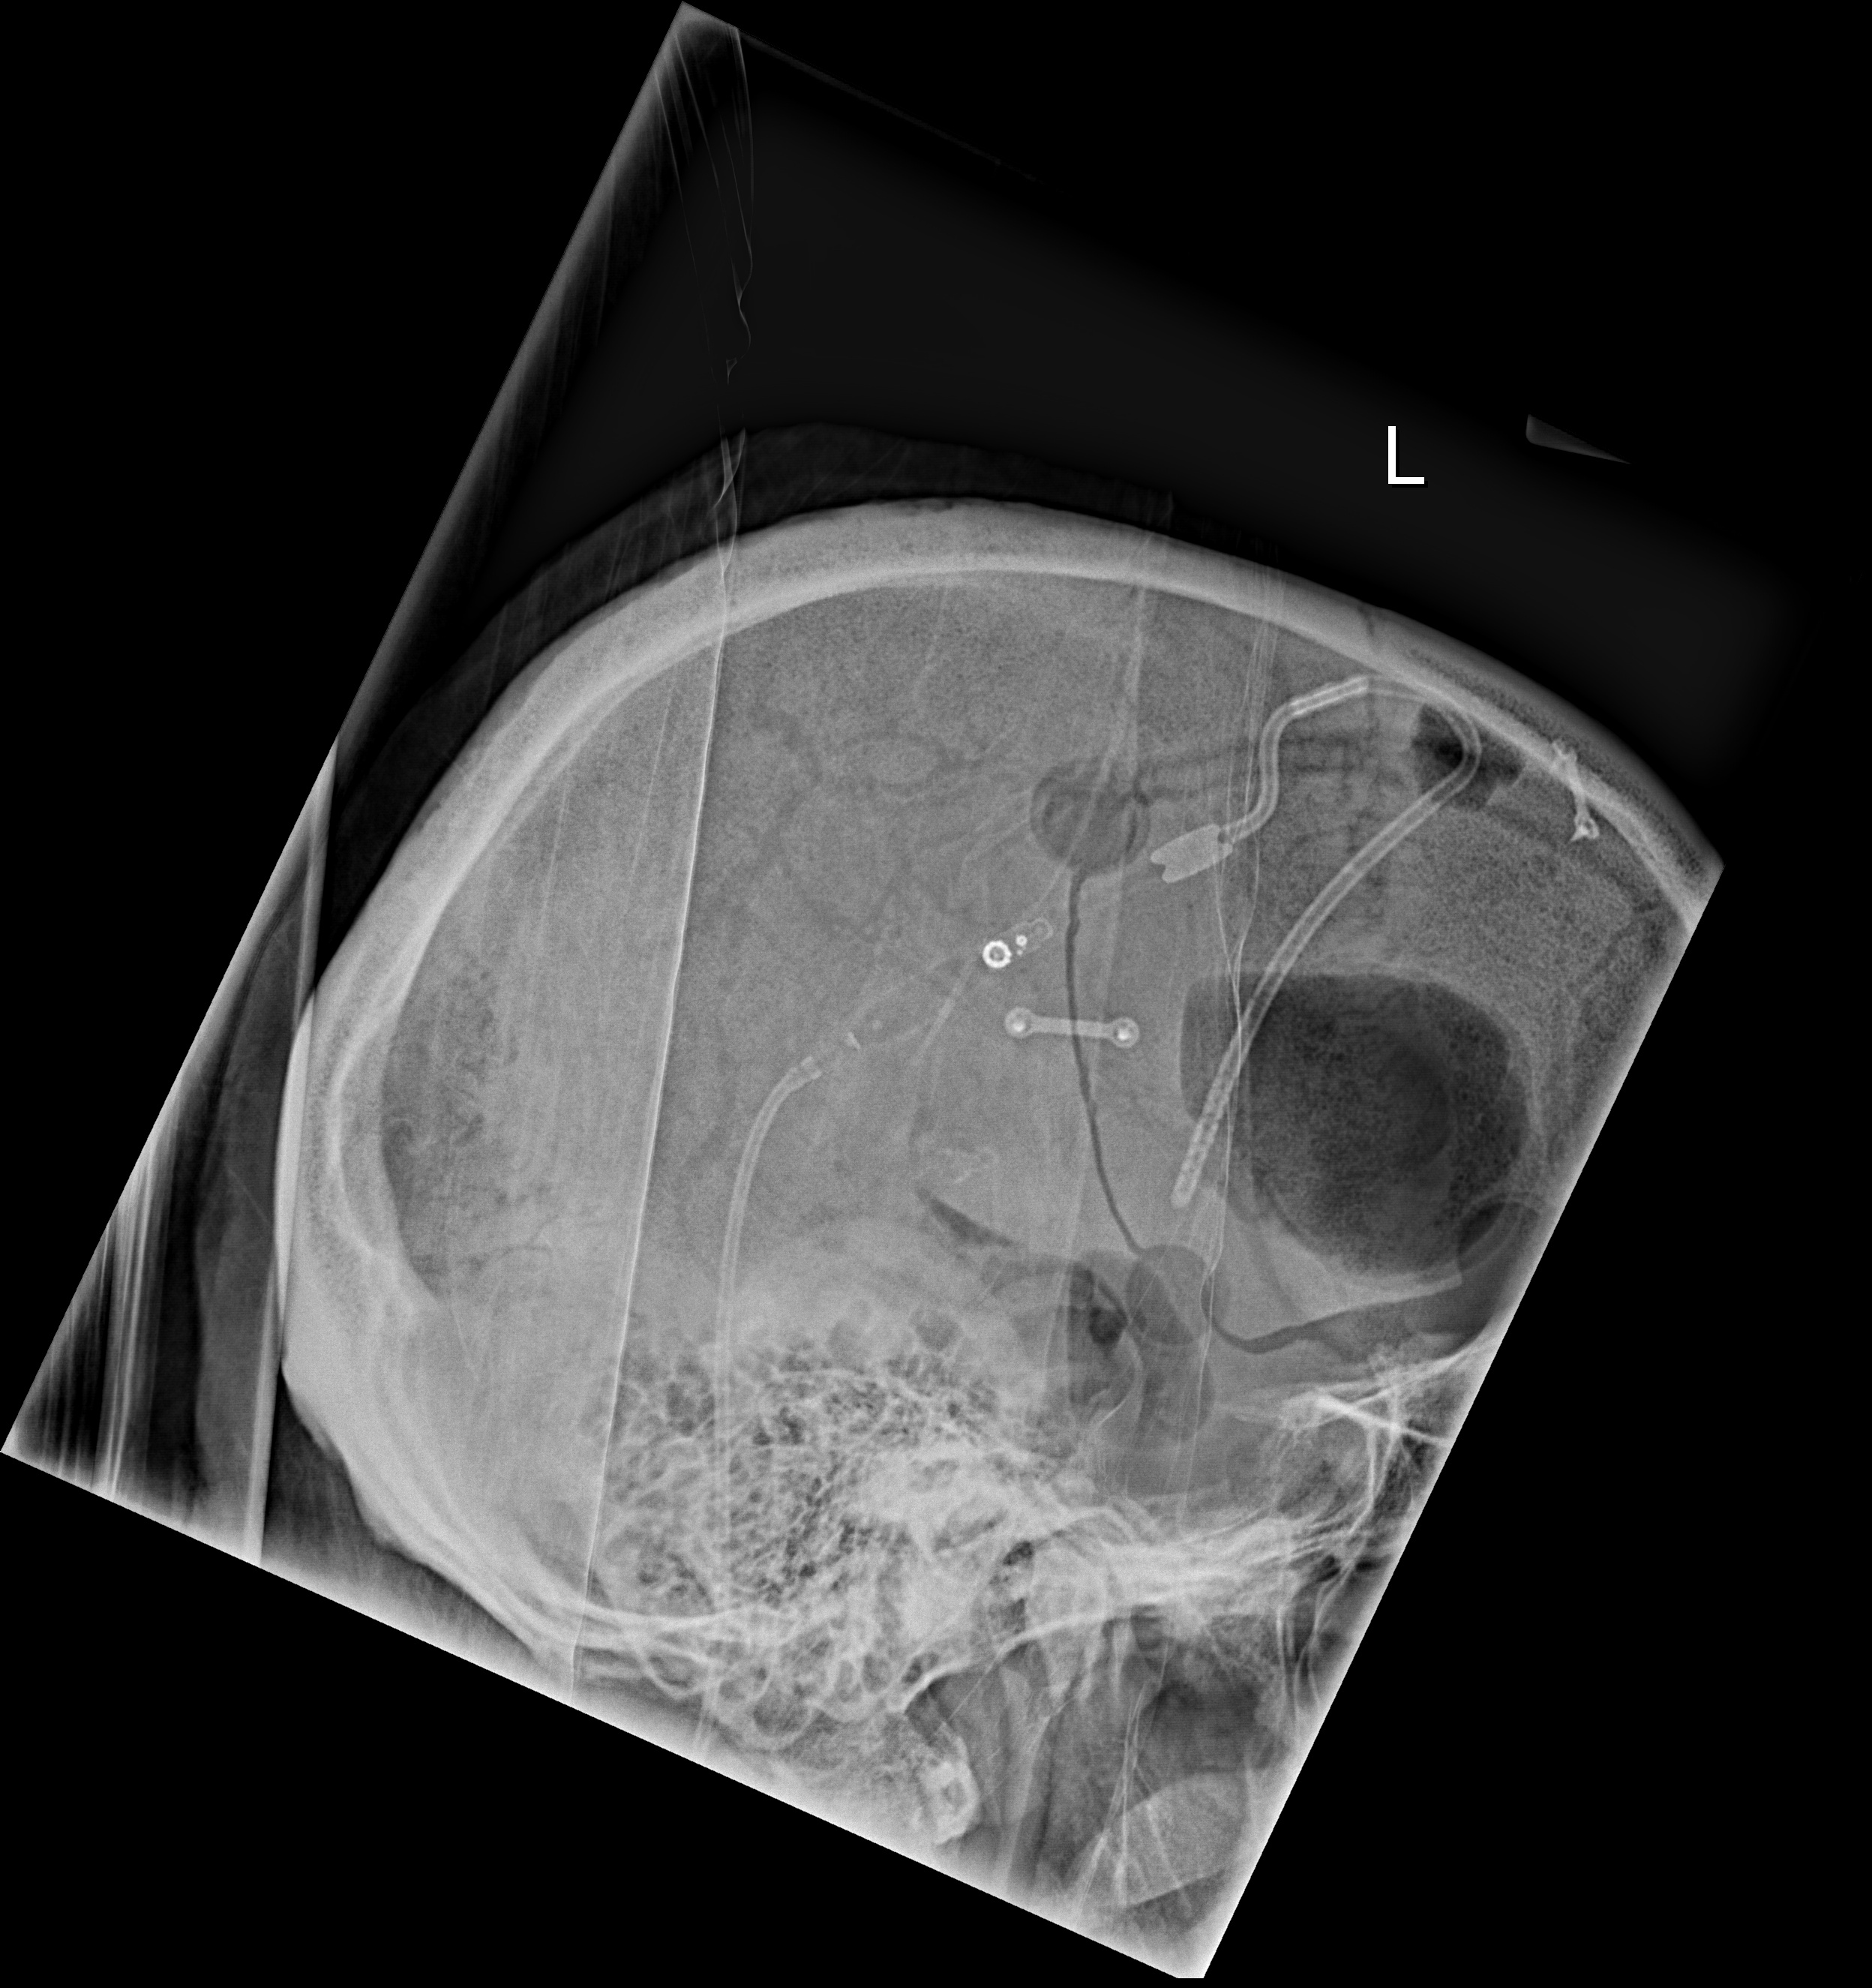Codman Hakim: (969, 915, 1056, 976)
